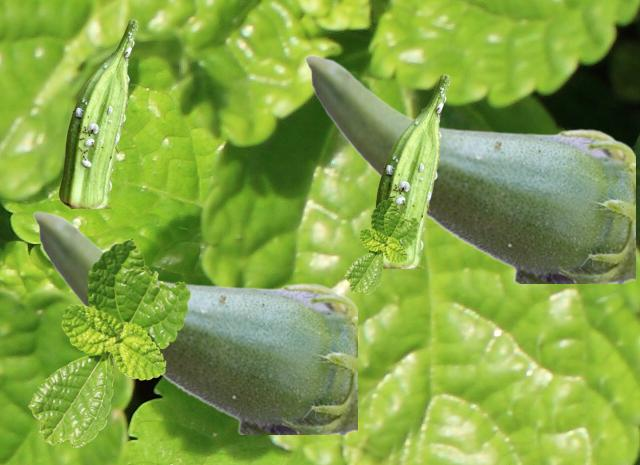okra: (304, 54, 634, 282), (32, 210, 356, 433), (369, 74, 449, 267), (59, 19, 137, 207)
